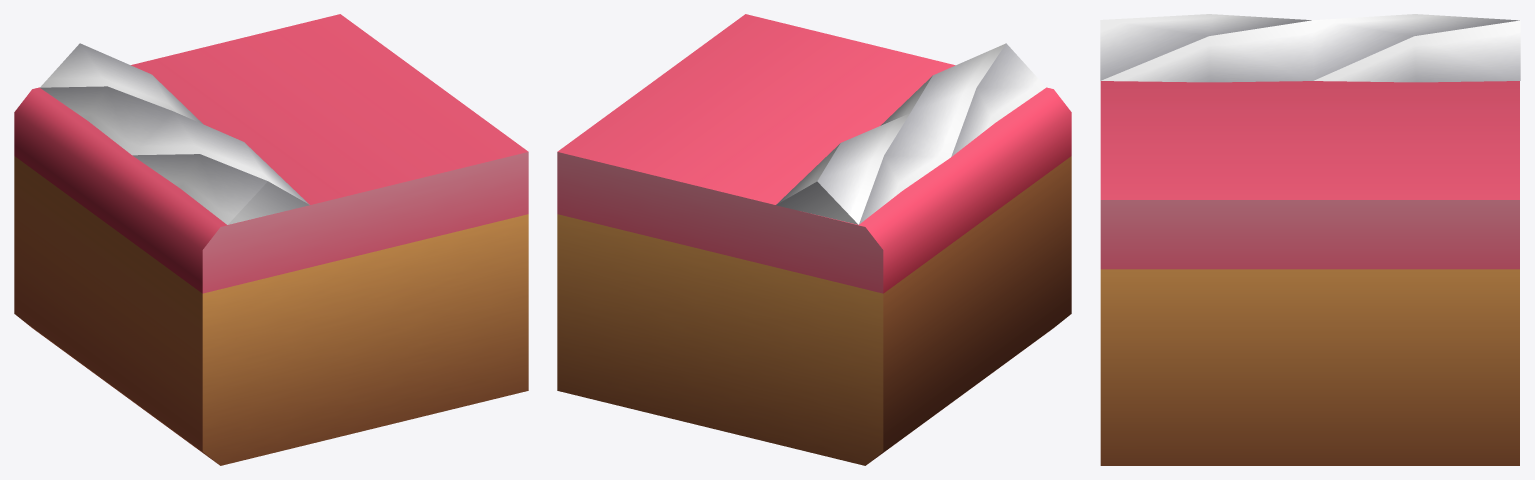
Rendered from m_SheetCake05_Slice02.fbx.
The picture shows the model from 3 angles, left to right: view 1: azimuth 30°, elevation 25°; view 2: azimuth 150°, elevation 25°; view 3: azimuth 270°, elevation 25°; orthographic projection. The views are drawn at different scales.
Visible parts, largest first — view 1: m_SheetCake05_Slice02; view 2: m_SheetCake05_Slice02; view 3: m_SheetCake05_Slice02.
Part boxes in pixels (x1,y1,x2,y2): m_SheetCake05_Slice02: [14, 14, 528, 465]; m_SheetCake05_Slice02: [557, 14, 1071, 465]; m_SheetCake05_Slice02: [1100, 14, 1520, 465].
Size of the model in its own units: 10 by 8 by 10.02.
